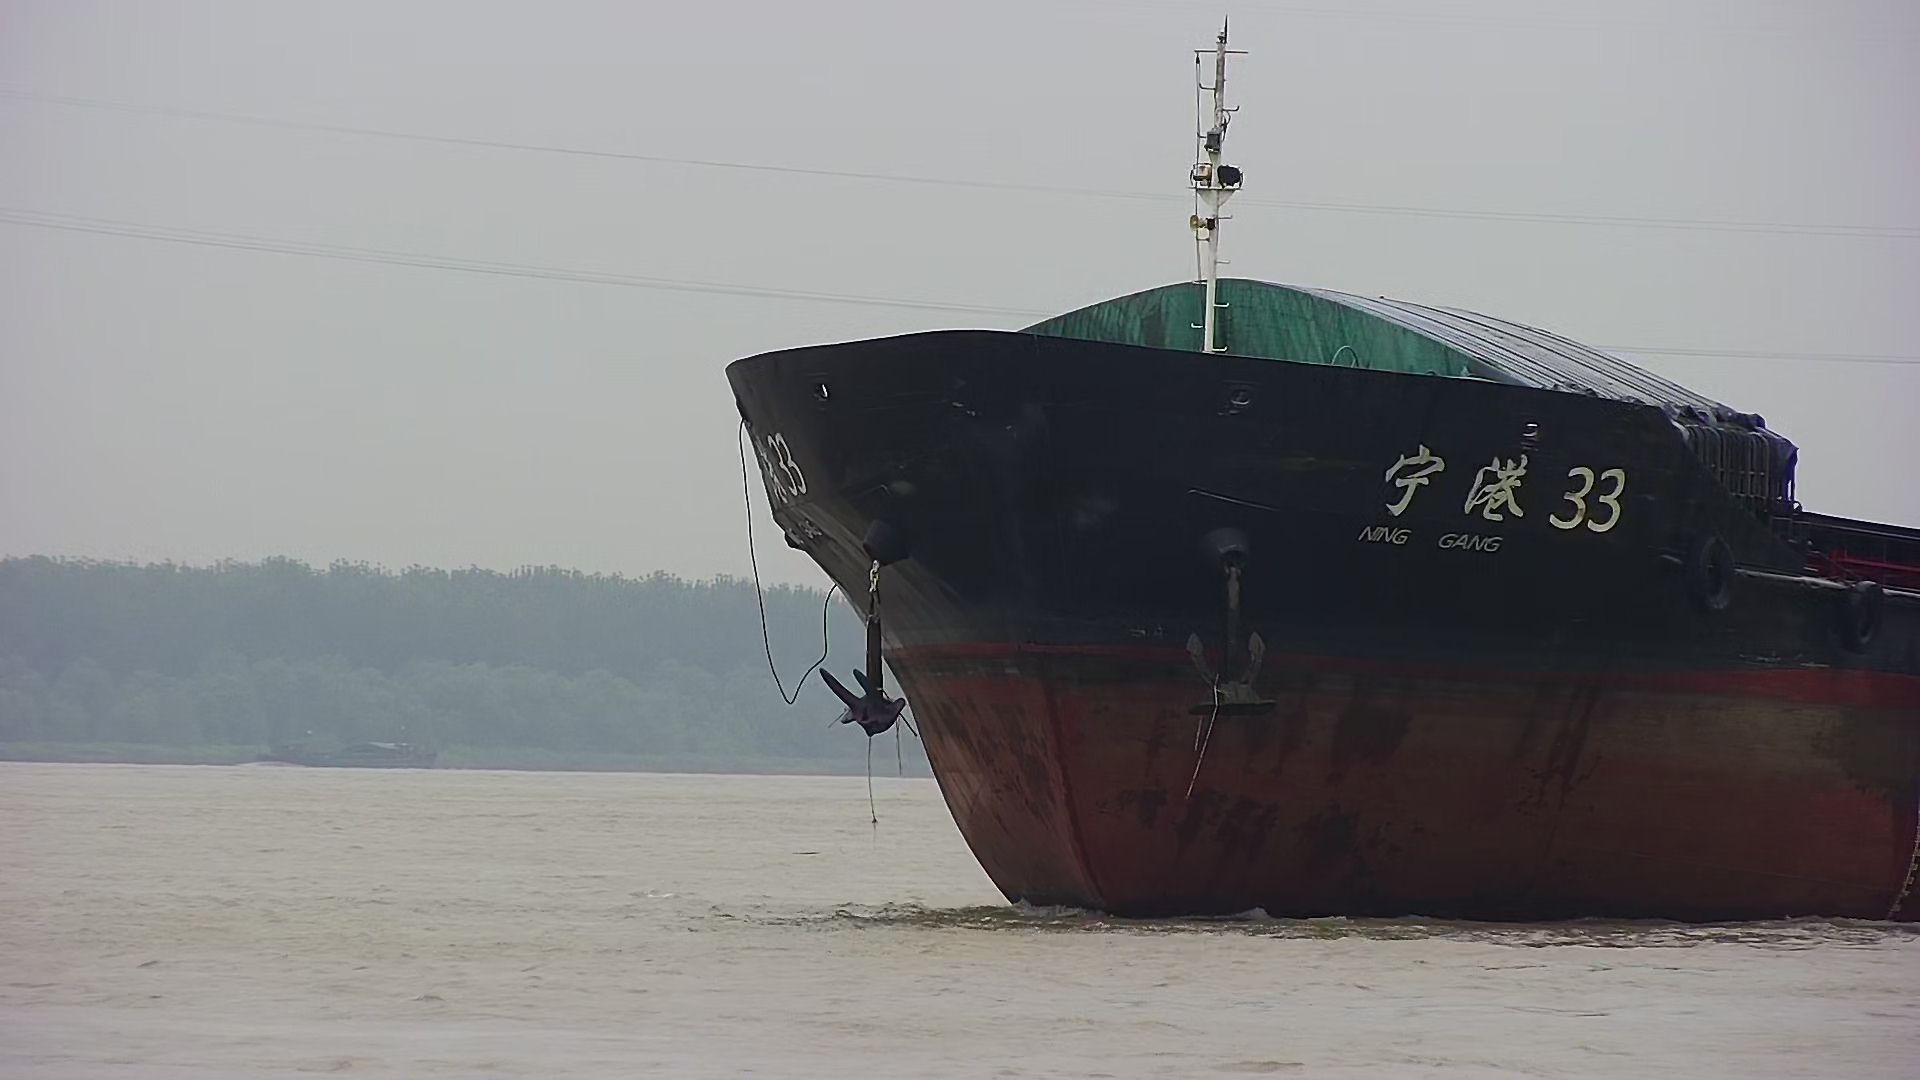ship: (713, 17, 1920, 935)
